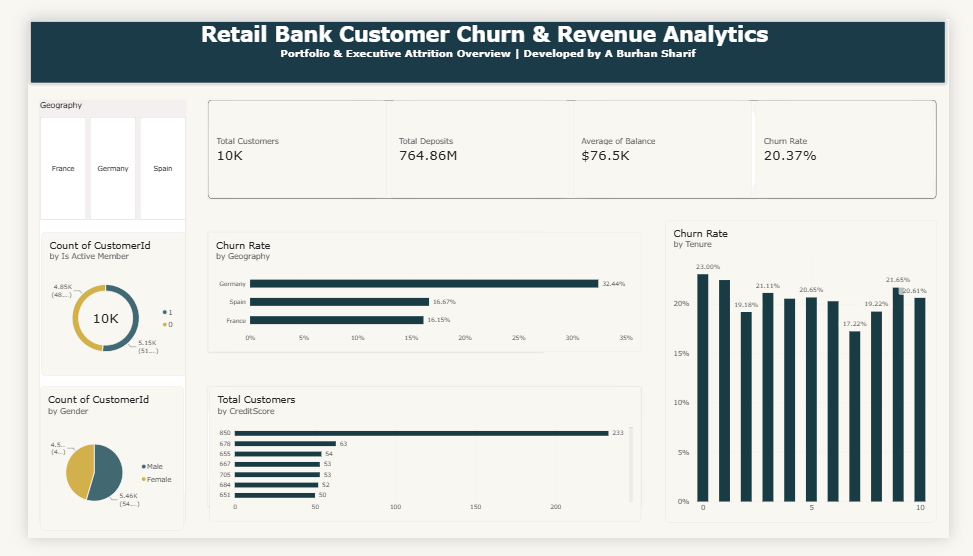

What the dashboard file says about the page in this screenshot:
{"tool":"powerbi","page":{"name":"Page 1","canvas":[1920,1080],"ordinal":0},"visuals":[{"type":"textbox","box":[0,0,1916.2,138.9],"z":0},{"type":"shape","box":[373.7,168.4,350,204.5],"z":1000},{"type":"shape","box":[26.3,168.4,302.6,878.9],"z":2000},{"type":"shape","box":[373.7,444.7,700,250],"z":3000},{"type":"shape","box":[376.3,765.8,902.6,250],"z":4000},{"type":"shape","box":[760.5,168.4,350,204.5],"z":5000},{"type":"shape","box":[1168.4,168.4,350,204.5],"z":6000},{"type":"shape","box":[1542.1,168.4,350,204.5],"z":7000},{"type":"advancedSlicerVisual","fields":{"Values":["Table1.Geography"]},"box":[23.7,168.4,305.3,250],"z":8000},{"type":"cardVisual","fields":{"Data":["Table1.Total Customers","Table1.Total Deposits","Avg(Table1.Balance)","Table1.Churn Rate"]},"box":[374.6,169.4,1517.4,205.2],"z":9000},{"type":"clusteredBarChart","fields":{"Category":["Table1.Geography"],"Y":["Table1.Churn Rate"]},"box":[373.7,444.7,902.6,250],"z":10000},{"type":"barChart","fields":{"Category":["Table1.CreditScore"],"Y":["Table1.Total Customers"]},"box":[377,765.9,899.5,281.5],"z":11000},{"type":"lineStackedColumnComboChart","fields":{"Category":["Table1.Tenure"],"Y":["Table1.Churn Rate"]},"box":[1326.6,417.5,565.5,629.9],"z":12000},{"type":"donutChart","fields":{"Category":["Table1.Is Active Member"],"Y":["CountNonNull(Table1.CustomerId)"]},"box":[28.6,443.8,300,300],"z":13000},{"type":"pieChart","fields":{"Category":["Table1.Gender"],"Y":["CountNonNull(Table1.CustomerId)"]},"box":[26.2,765.9,300,300],"z":14000}]}

Visuals, with their boxes in screenshot pixels (x1, y1, x2, y2), scaled from the page's 1920x1080 canvas onto the 973x556 screenshot:
textbox: [left=0, top=0, right=971, bottom=72]
shape: [left=189, top=87, right=367, bottom=192]
shape: [left=13, top=87, right=167, bottom=539]
shape: [left=189, top=229, right=544, bottom=358]
shape: [left=191, top=394, right=648, bottom=523]
shape: [left=385, top=87, right=563, bottom=192]
shape: [left=592, top=87, right=769, bottom=192]
shape: [left=781, top=87, right=959, bottom=192]
advancedSlicerVisual - Table1.Geography: [left=12, top=87, right=167, bottom=215]
cardVisual - Table1.Total Customers x Table1.Total Deposits: [left=190, top=87, right=959, bottom=193]
clusteredBarChart - Table1.Geography x Table1.Churn Rate: [left=189, top=229, right=647, bottom=358]
barChart - Table1.CreditScore x Table1.Total Customers: [left=191, top=394, right=647, bottom=539]
lineStackedColumnComboChart - Table1.Tenure x Table1.Churn Rate: [left=672, top=215, right=959, bottom=539]
donutChart - Table1.Is Active Member x CountNonNull(Table1.CustomerId): [left=14, top=228, right=167, bottom=383]
pieChart - Table1.Gender x CountNonNull(Table1.CustomerId): [left=13, top=394, right=165, bottom=549]
